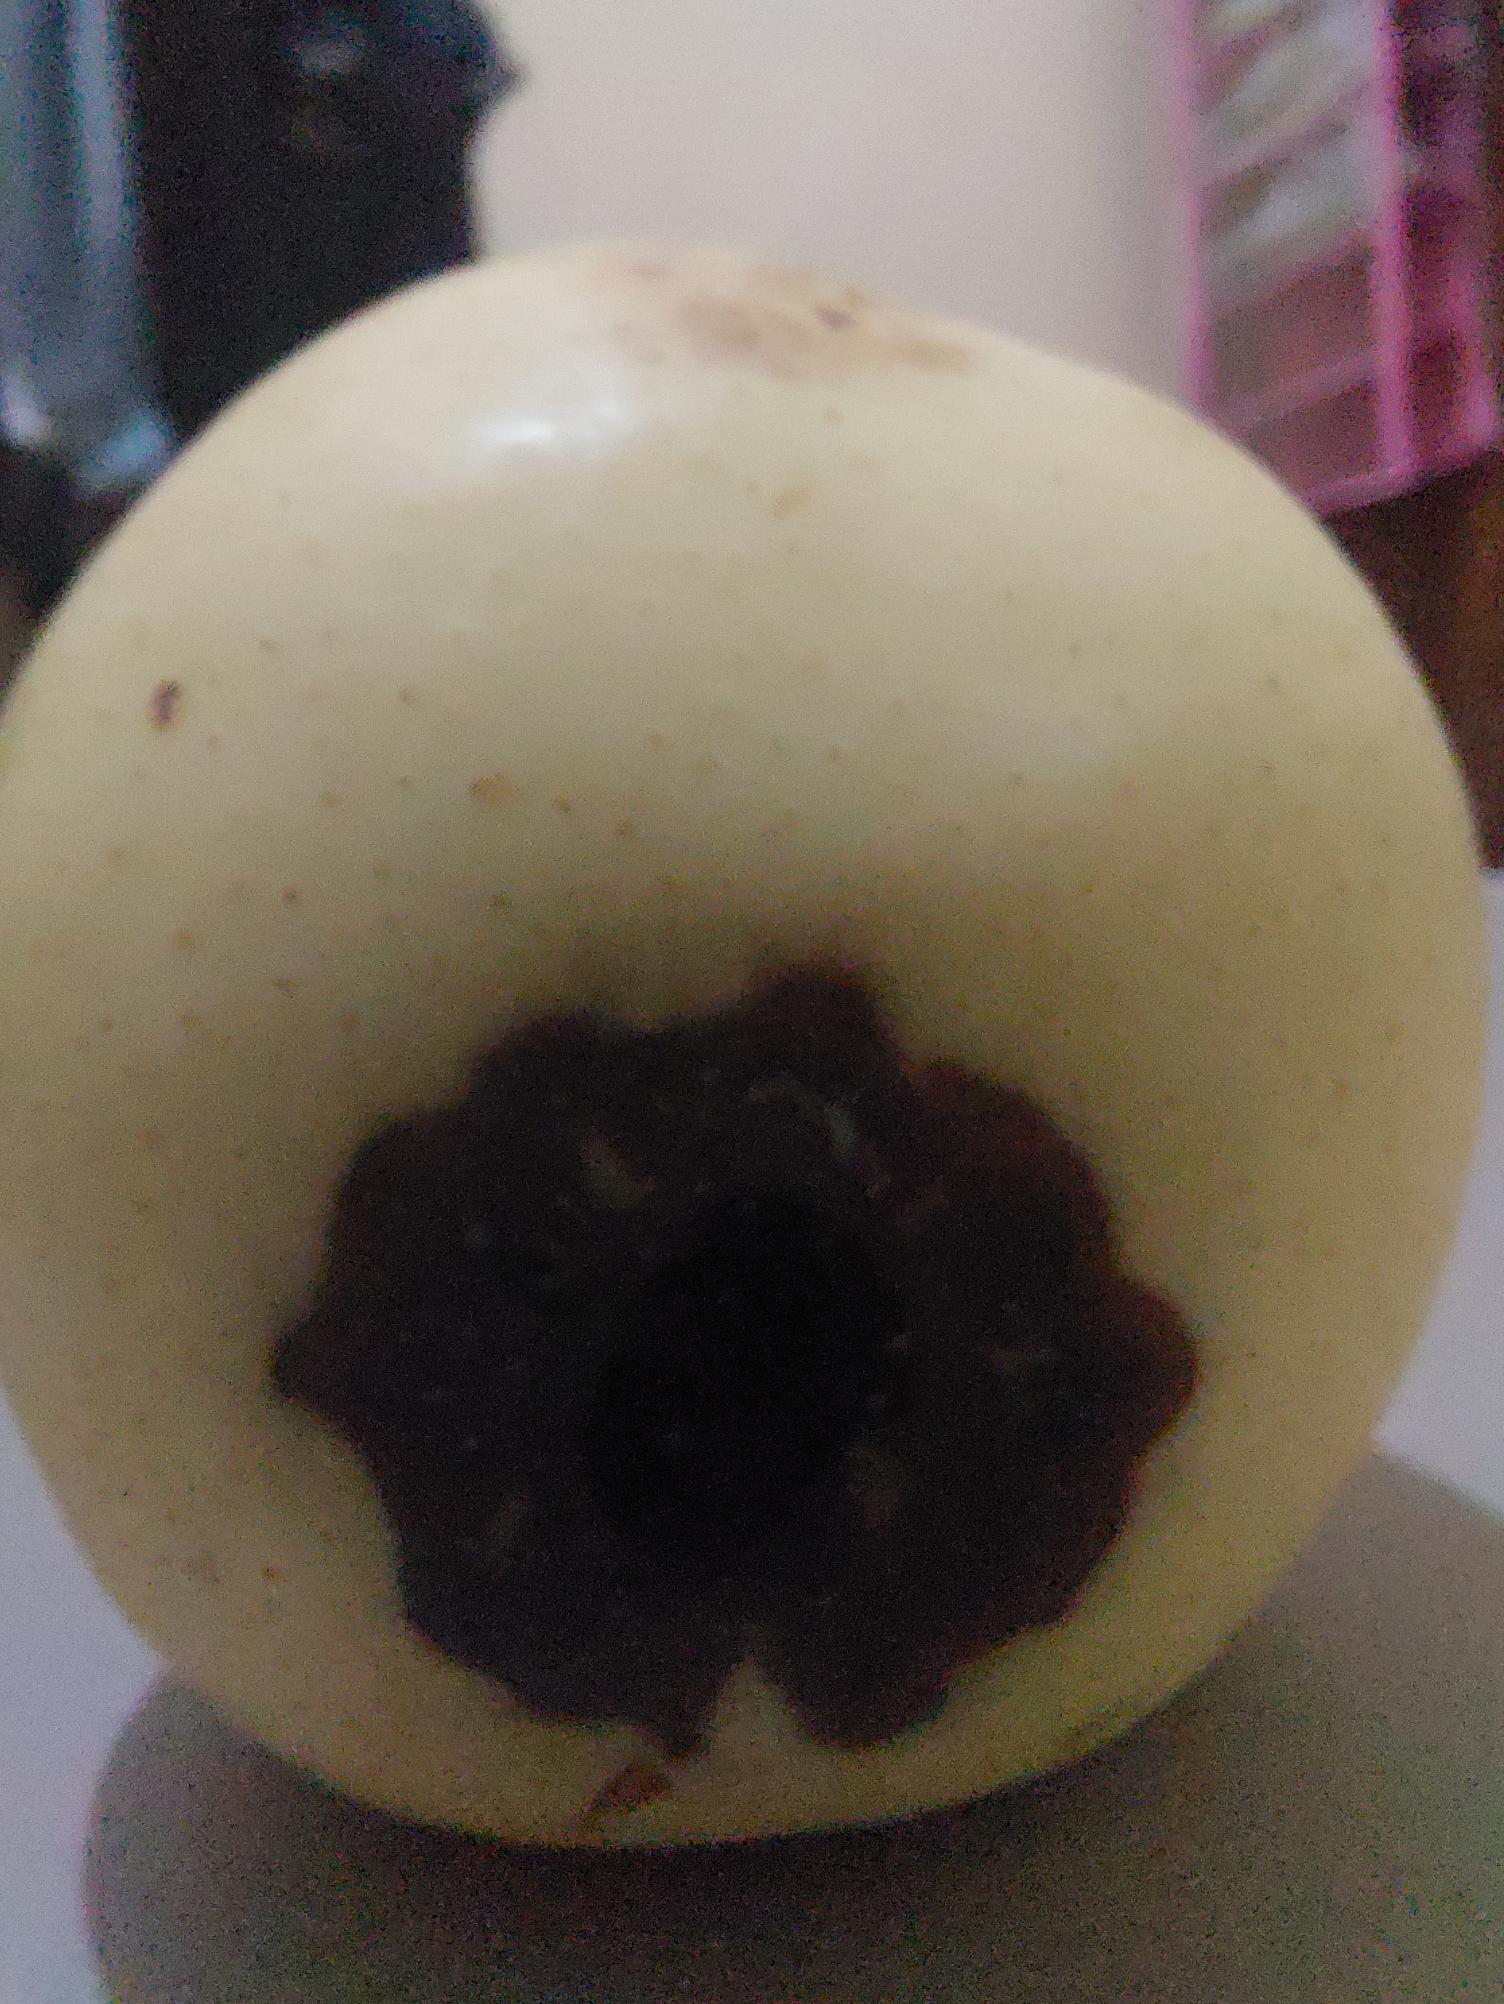Bad Pear: (0, 257, 1491, 1881)
